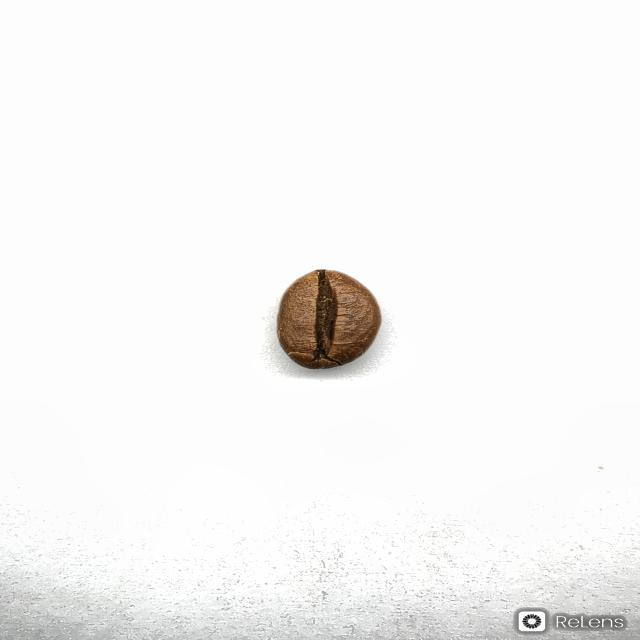Good bean: (275, 268, 382, 369)
